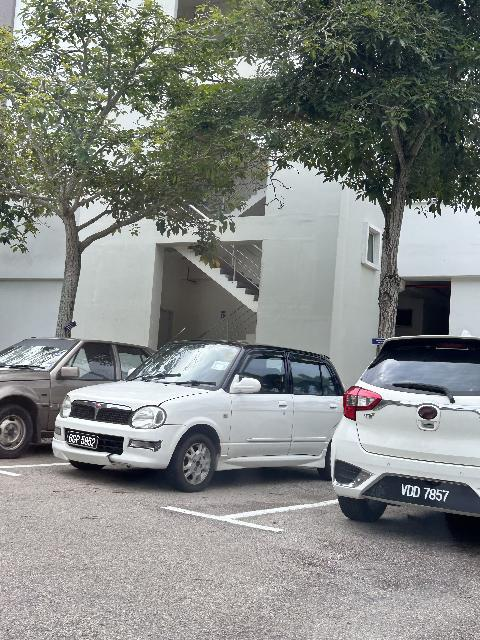BGP5952: (63, 430, 101, 452)
License_Plate: (379, 474, 466, 517), (63, 430, 101, 452)
VDD7857: (379, 474, 466, 517)
car: (54, 336, 366, 494), (332, 323, 480, 529), (1, 330, 167, 463)
